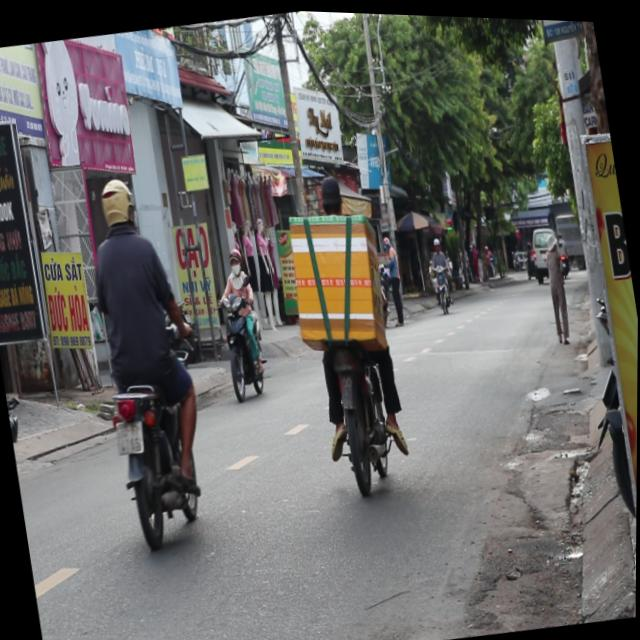helmet: (94, 172, 137, 231), (225, 243, 244, 275)
licenseplate: (68, 163, 223, 552), (271, 158, 420, 501), (204, 240, 275, 401)
motorcyclist: (315, 169, 344, 211)
nohelmet: (112, 417, 145, 454)
